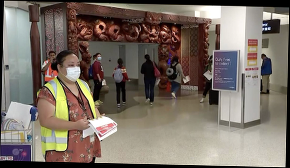with_mask: (61, 59, 83, 83), (97, 54, 102, 61)
